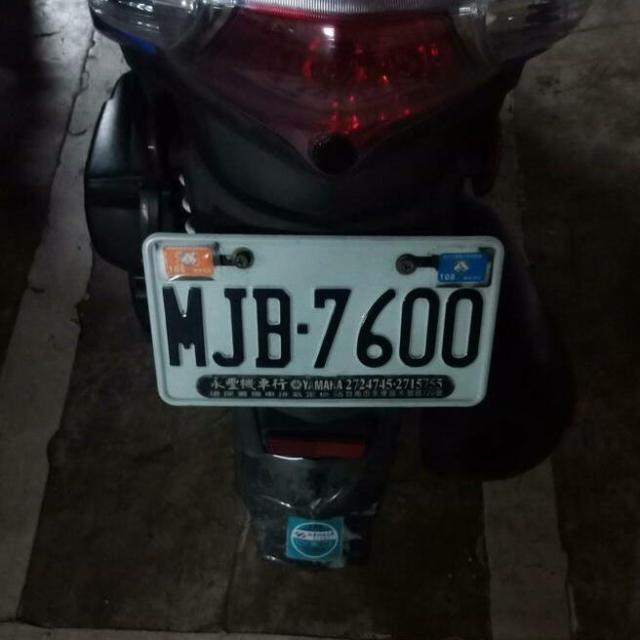W: (131, 210, 513, 427)
